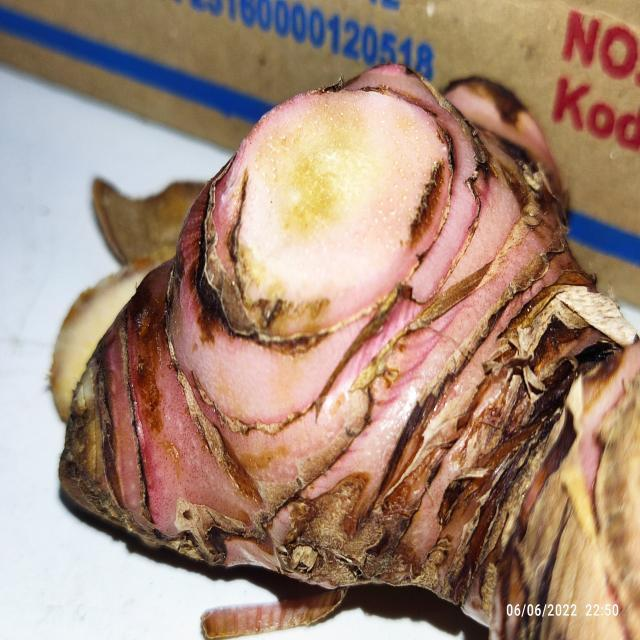ginger: (57, 60, 640, 638)
